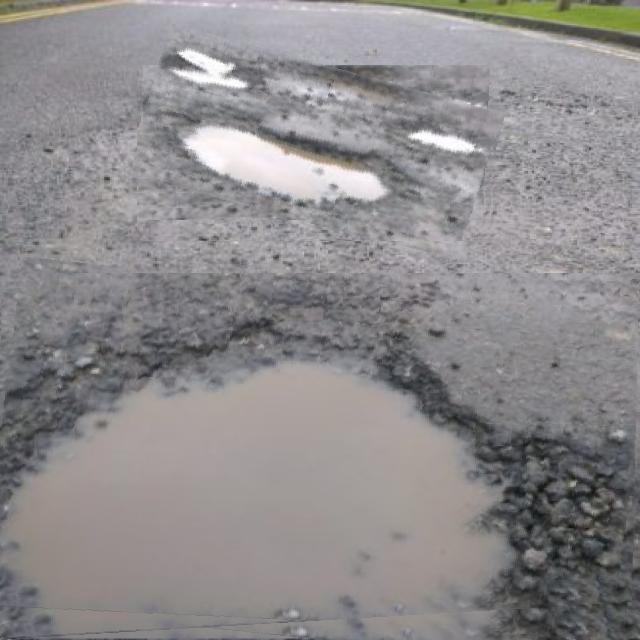Pothole: (0, 273, 640, 640), (137, 44, 498, 241)
